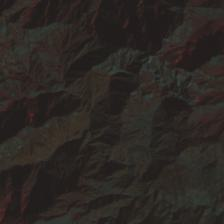landslides: (184, 46, 199, 70), (25, 135, 48, 148), (141, 65, 153, 79), (163, 39, 180, 47)
